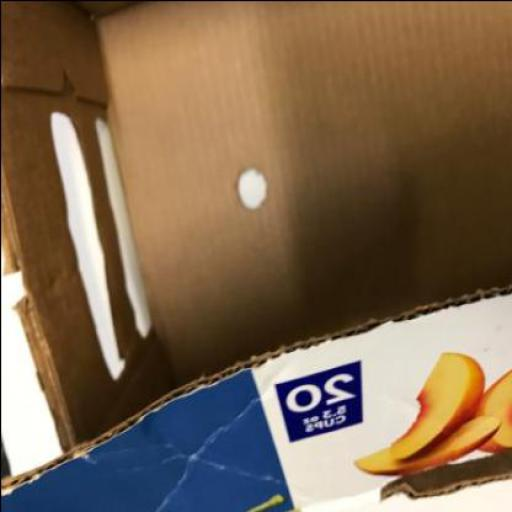cardboard: (1, 0, 512, 511), (1, 283, 512, 511)
